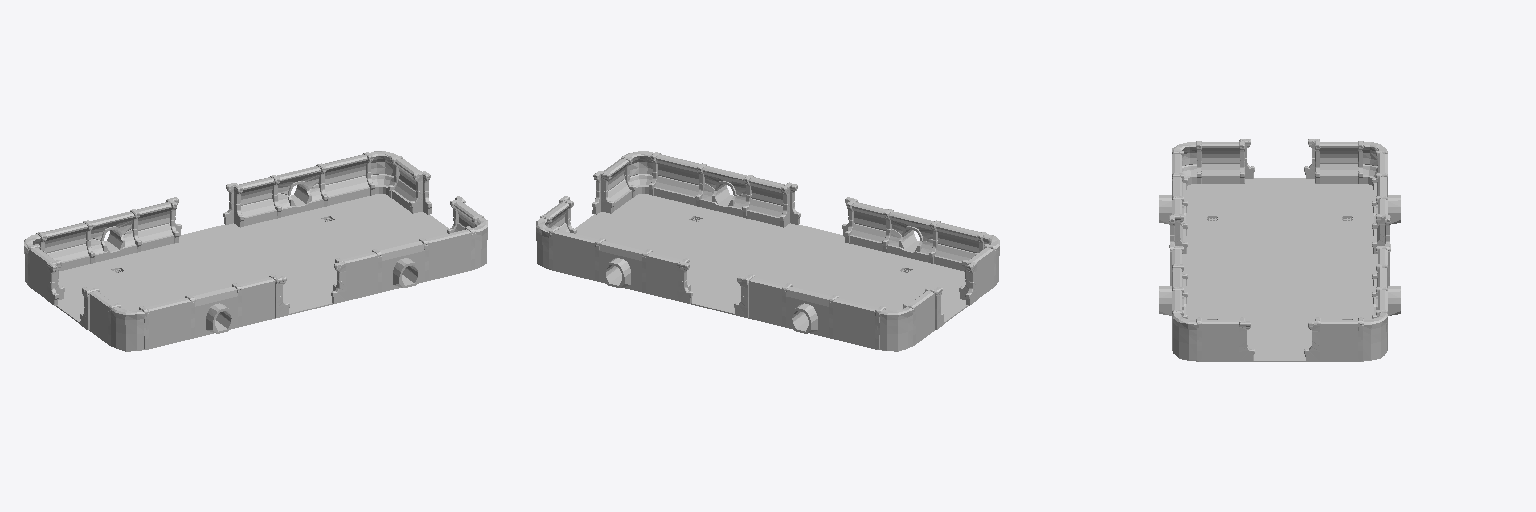
Rendered from DungeonRoom_21.obj.
The picture shows the model from 3 angles: view 1: azimuth 30°, elevation 25°; view 2: azimuth 150°, elevation 25°; view 3: azimuth 270°, elevation 25°; orthographic projection.
Parts seen in each view (by area): view 1: DungeonRoom_21; view 2: DungeonRoom_21; view 3: DungeonRoom_21.
Boxes of the visible parts, x1=… form: DungeonRoom_21: x1=24, y1=151, x2=487, y2=351; DungeonRoom_21: x1=536, y1=151, x2=999, y2=351; DungeonRoom_21: x1=1159, y1=139, x2=1400, y2=361.
Size of the model in its own units: 64.91 by 8.22 by 36.